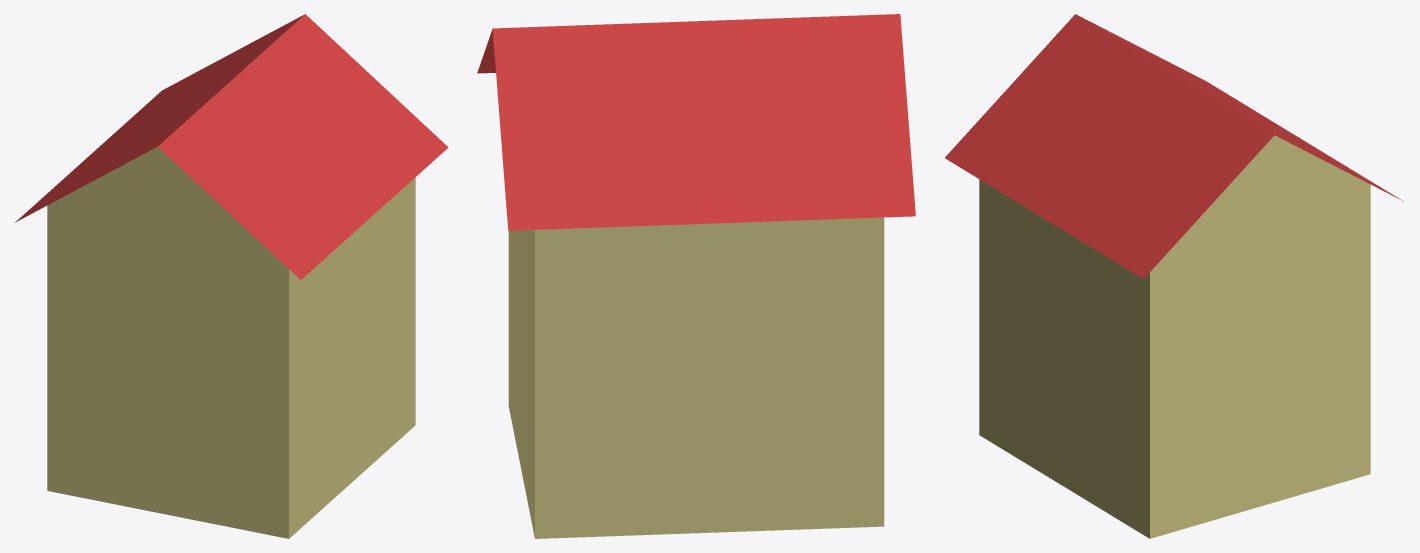
3 views of the same model, side by side, from view 1: azimuth 30°, elevation 25°; view 2: azimuth 150°, elevation 25°; view 3: azimuth 270°, elevation 25° (orthographic). The views are drawn at different scales.
Size of the model in its own units: 14.05 by 13.83 by 12.58.
